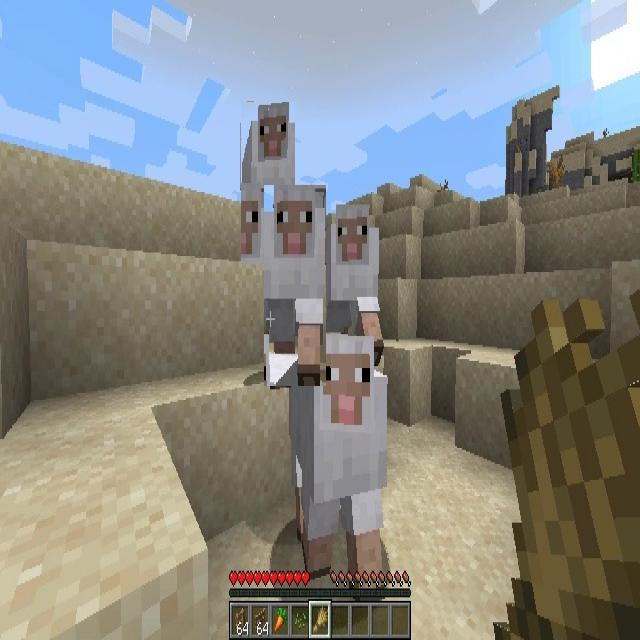sheep: (292, 336, 389, 584), (264, 185, 326, 386), (326, 206, 382, 367), (241, 102, 295, 264)
